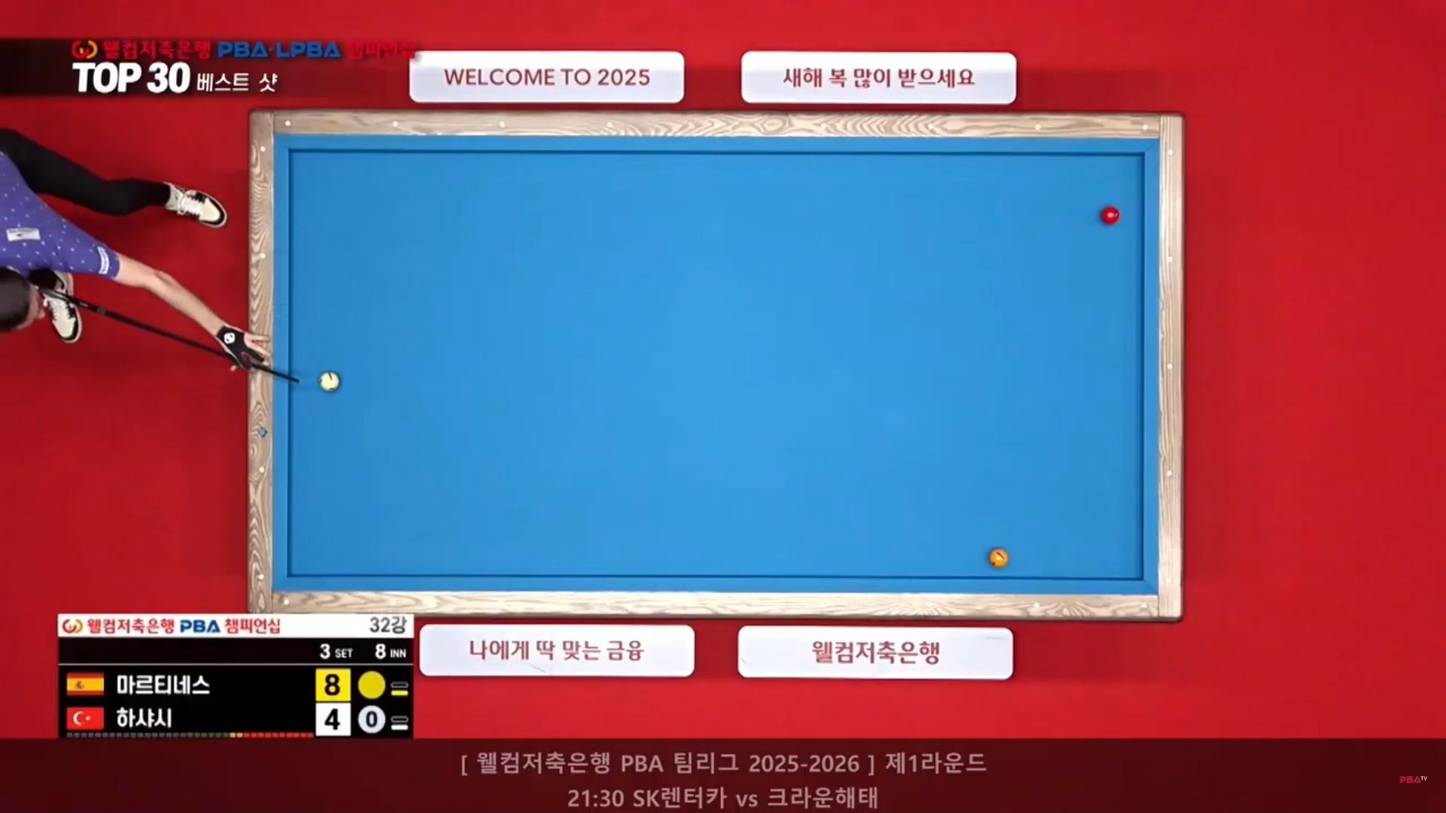Red: (1100, 208, 1123, 226)
White: (317, 370, 343, 391)
Yellow: (991, 552, 1013, 570)
